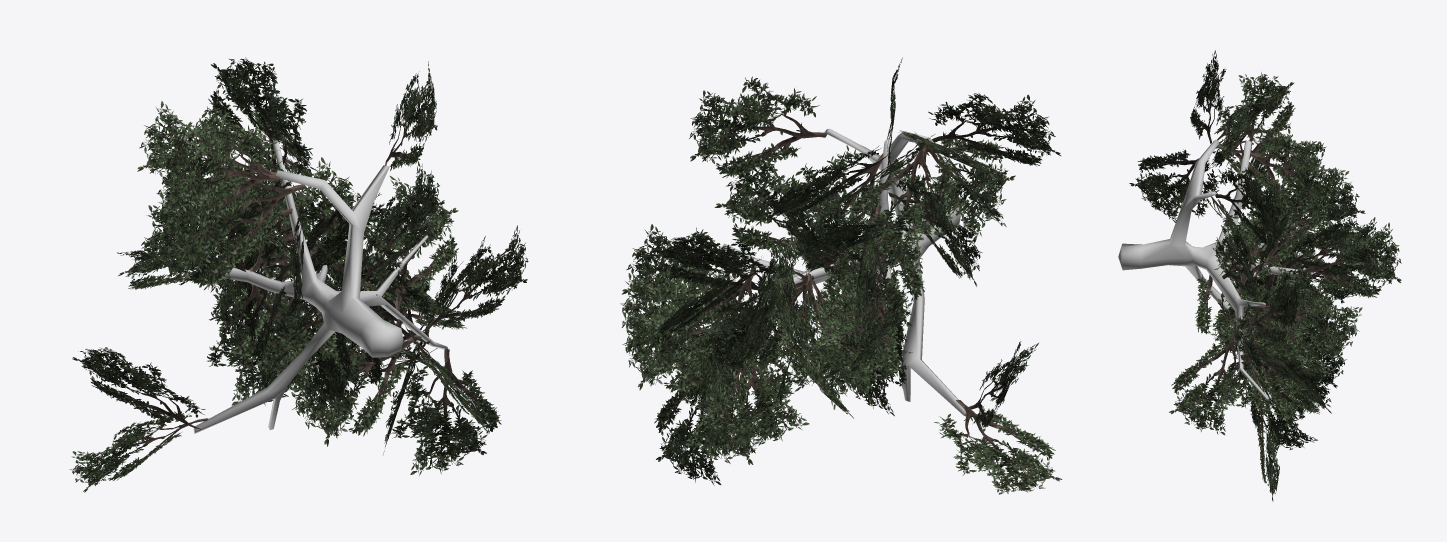
Rendered from OvalTree.fbx.
3 views of the same model, side by side, from view 1: azimuth 30°, elevation 25°; view 2: azimuth 150°, elevation 25°; view 3: azimuth 270°, elevation 25° (orthographic). The views are drawn at different scales.
Parts seen in each view (by area): view 1: OvalTree2; view 2: OvalTree2; view 3: OvalTree2.
Boxes of the visible parts, x1,y1,x2,y2 form: OvalTree2: (69, 57, 528, 492); OvalTree2: (620, 57, 1062, 494); OvalTree2: (1118, 50, 1401, 501).
Size of the model in its own units: 1350 by 1440 by 981.
